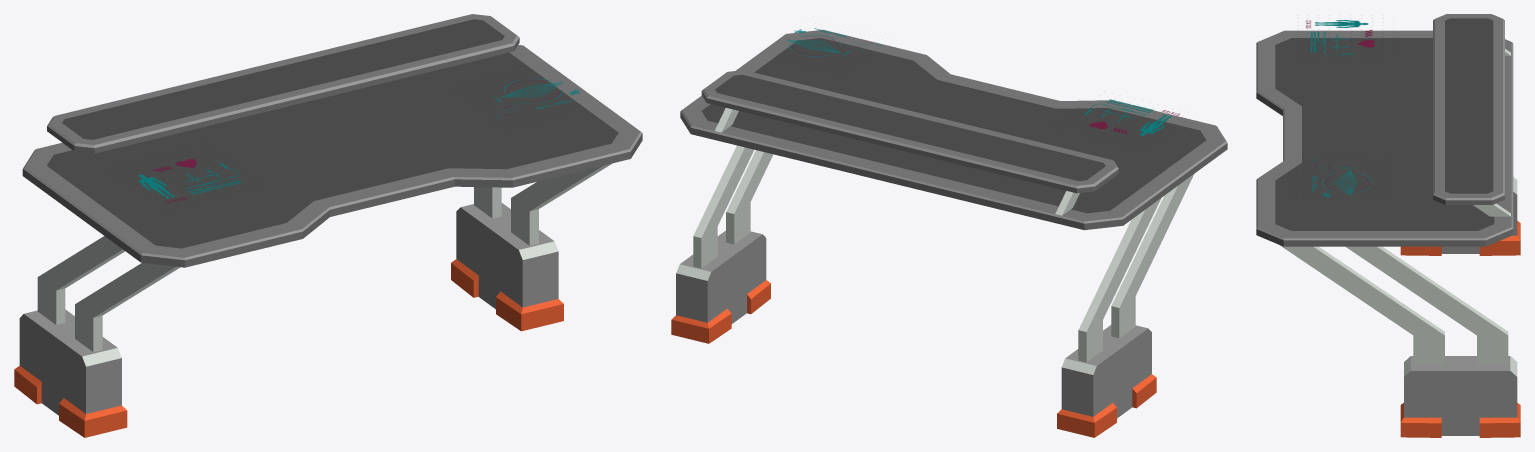
File: Desk_01.glb
The picture shows the model from 3 angles, left to right: view 1: azimuth 30°, elevation 25°; view 2: azimuth 150°, elevation 25°; view 3: azimuth 270°, elevation 25°; orthographic projection. The views are drawn at different scales.
Parts seen in each view (by area): view 1: Desk_01; view 2: Desk_01; view 3: Desk_01.
Boxes of the visible parts, x1,y1,x2,y2 form: Desk_01: [14, 14, 642, 437]; Desk_01: [671, 28, 1227, 437]; Desk_01: [1256, 14, 1520, 437].
Size of what is drawn, in the model's own units: 2 by 1.03 by 1.07.
2 materials, 2 textured.
